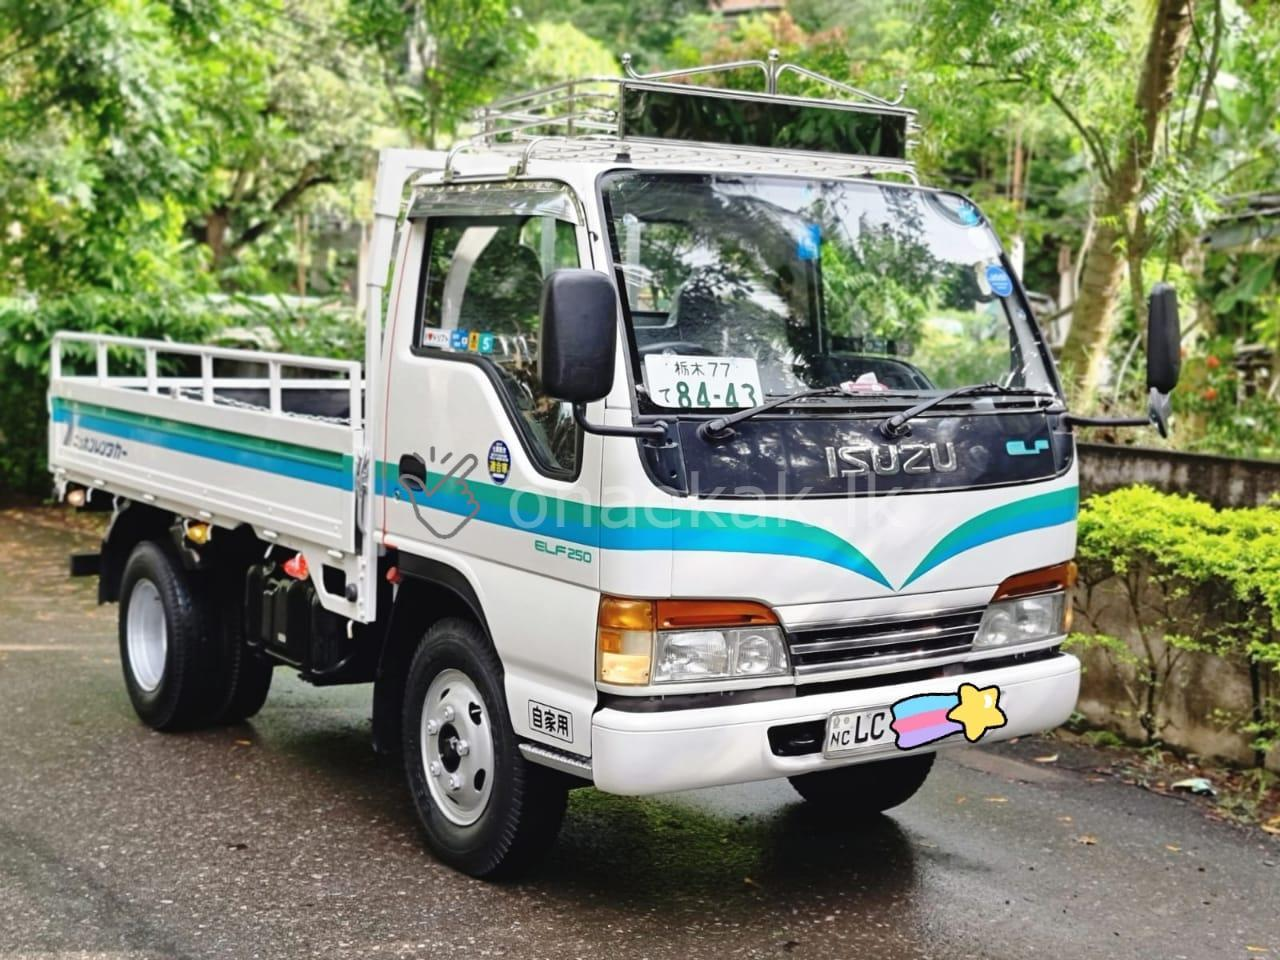truck: (44, 135, 1182, 879)
